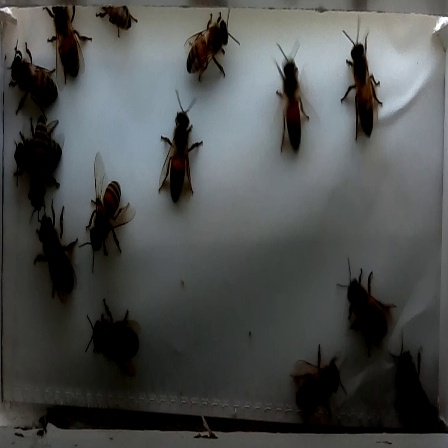bee: (145, 92, 205, 211), (333, 21, 388, 150), (327, 261, 408, 347), (263, 41, 316, 160), (77, 165, 139, 265), (27, 203, 84, 306), (180, 7, 247, 87), (271, 345, 351, 412), (79, 305, 156, 373), (383, 337, 436, 424), (2, 45, 63, 118), (5, 118, 71, 184), (42, 4, 95, 83)
